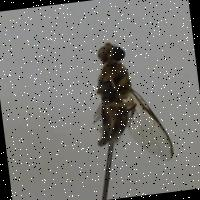Oriental-fruit-fly: (70, 31, 184, 178)
